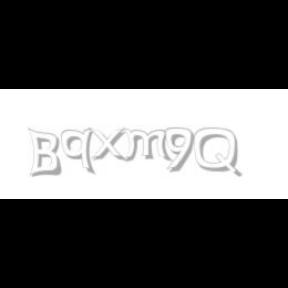9: (164, 128, 194, 172)
B: (27, 128, 61, 178)
Q: (194, 128, 240, 178)
m: (121, 128, 173, 162)
q: (61, 128, 97, 176)
x: (89, 128, 131, 162)
